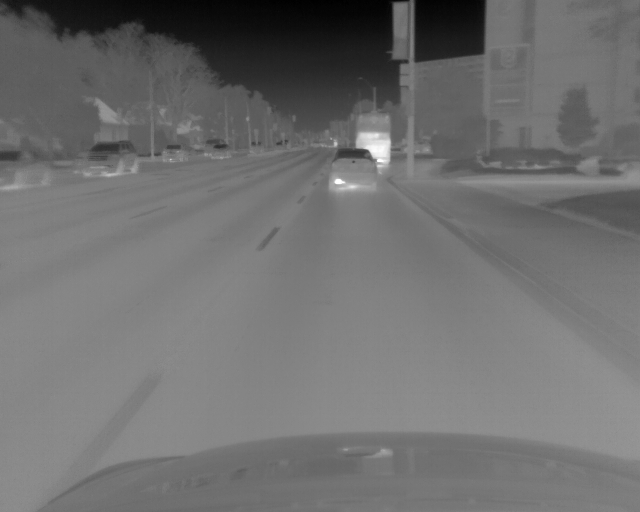car: (1, 148, 54, 190), (328, 148, 377, 193), (83, 140, 139, 178), (355, 113, 391, 168), (160, 143, 187, 163), (204, 138, 224, 158), (212, 145, 231, 160), (247, 142, 264, 154)
